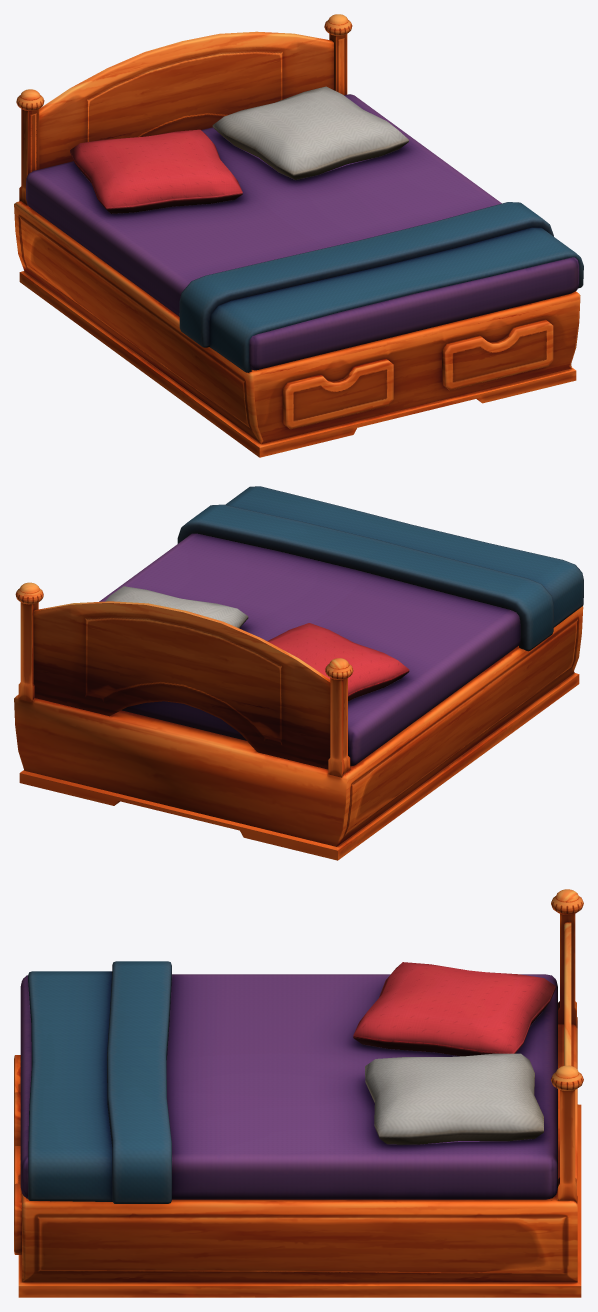
File: Bed02.FBX
3 views of the same model, one above another, from view 1: azimuth 30°, elevation 25°; view 2: azimuth 150°, elevation 25°; view 3: azimuth 270°, elevation 25° (orthographic). The views are drawn at different scales.
Visible parts, largest first — view 1: Bed02; view 2: Bed02; view 3: Bed02.
Boxes of the visible parts, x1,y1,x2,y2 form: Bed02: [14, 14, 583, 457]; Bed02: [14, 486, 583, 860]; Bed02: [14, 889, 583, 1297].
Size of what is drawn, in the model's own units: 1.76 by 0.9805 by 2.1.
